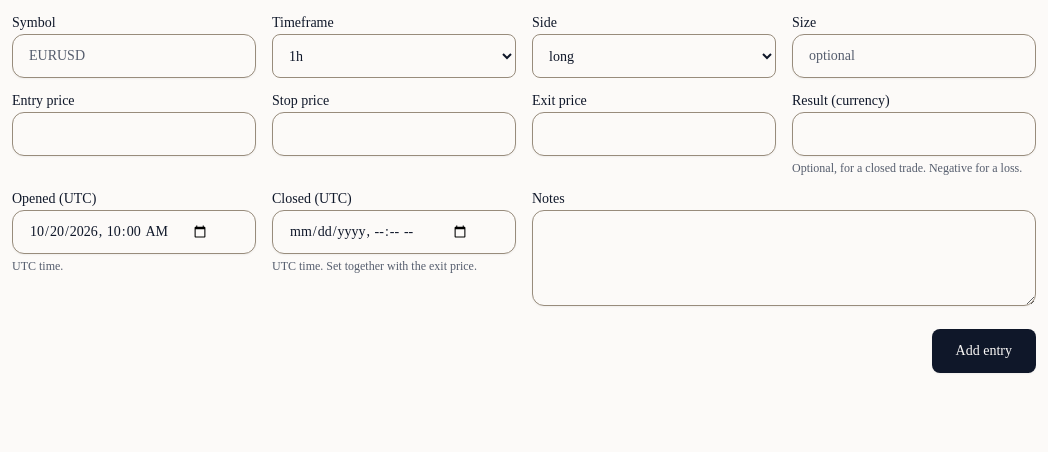
it: JournalForm › announces a form-level message
Click the button "Add entry".
click(984, 351)  # box [932,329,1036,373]
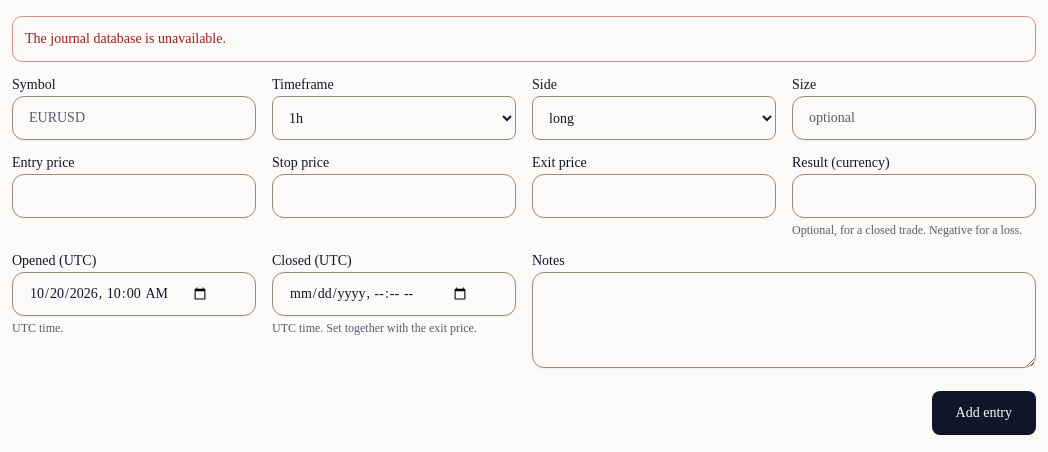
Result: the message shows "database is unavailable" at [25,31,226,46]
